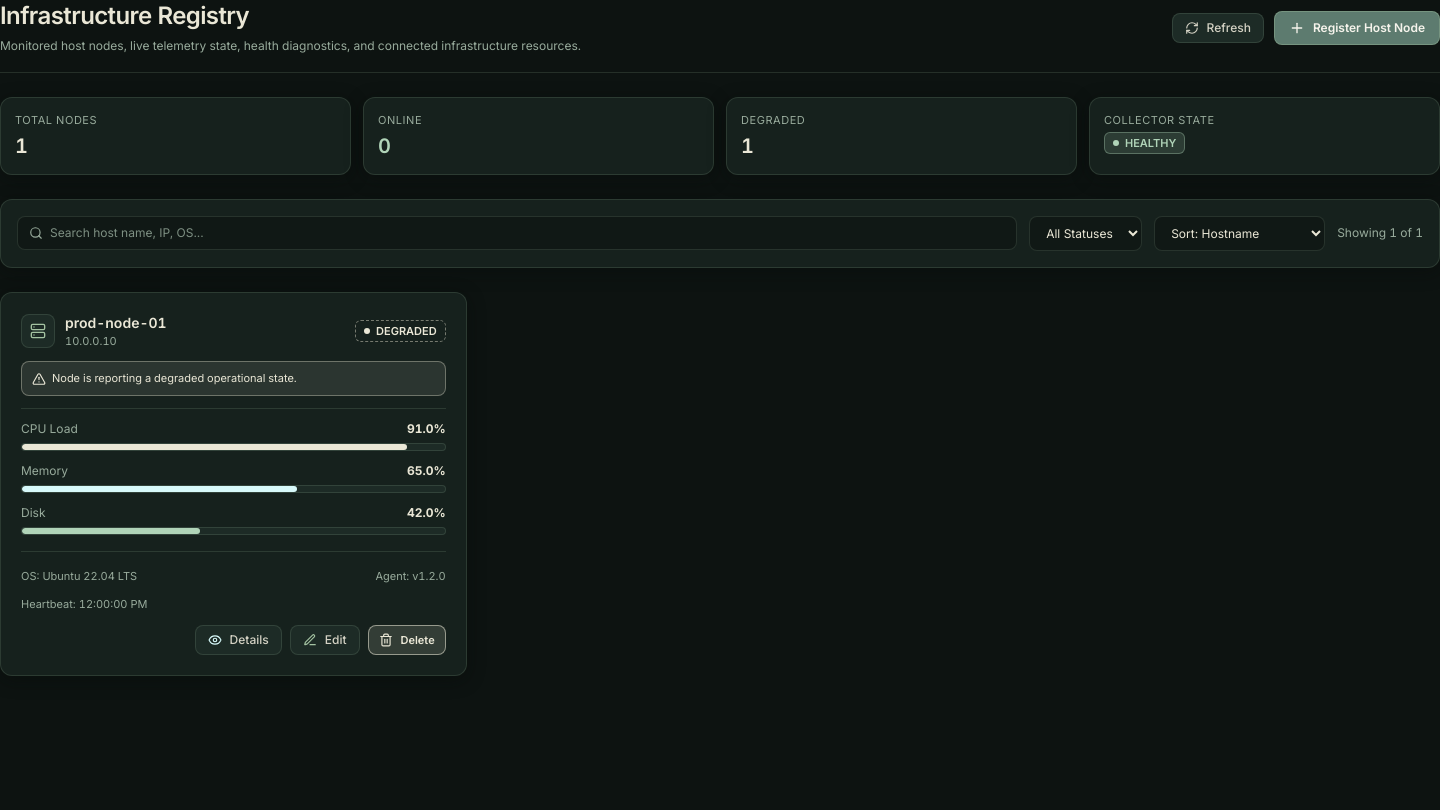
Scenario: Phase UI-3: ServersPage Infrastructure Detail Experience › displays degradation reason and opens comprehensive infrastructure detail modal
expect the heading "prod-node-01" is shown: met, box x1=65 y1=312 x2=167 y2=332
expect the text "Node is reporting a degraded operational state." is shown: met, box x1=52 y1=370 x2=297 y2=386
Click the button "Details" at (238, 640), box x1=195 y1=624 x2=282 y2=654
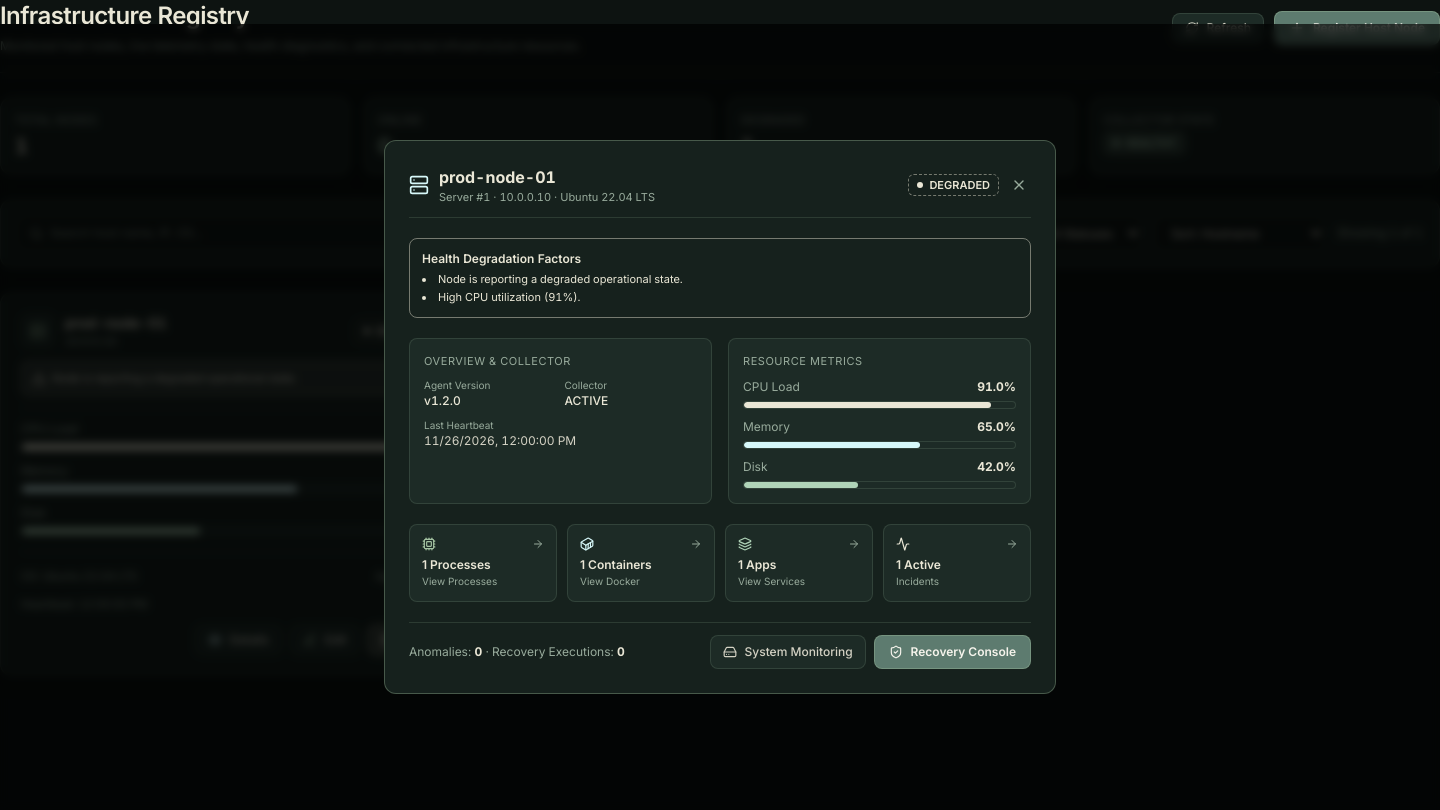
expect the text "Health Degradation Factors" is shown: met, box x1=422 y1=251 x2=581 y2=266
expect the list item "High CPU utilization (91%)." is shown: met, box x1=438 y1=290 x2=580 y2=304
expect the text "1 Processes" is shown: met, box x1=422 y1=557 x2=491 y2=572
